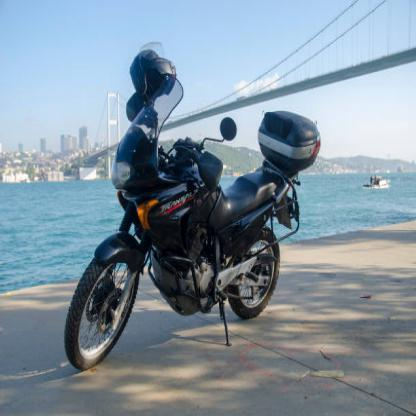Motorcycle: (56, 47, 316, 373)
